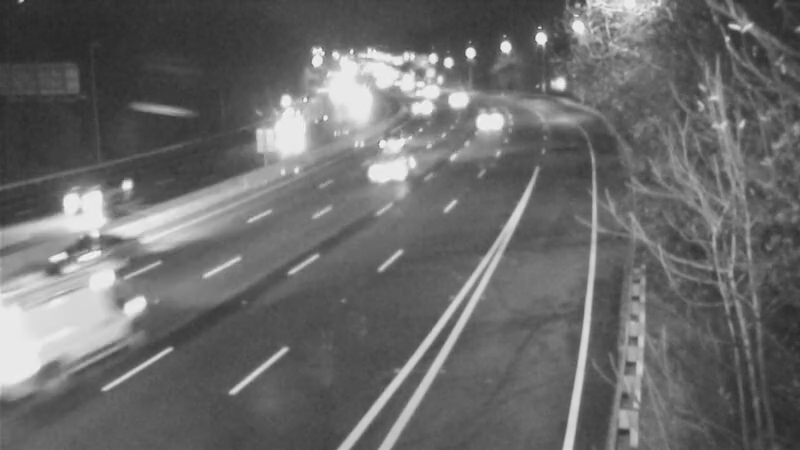vehicle: (1, 285, 104, 395), (360, 131, 440, 211), (39, 212, 119, 292), (47, 160, 127, 240), (408, 64, 458, 114), (395, 70, 445, 120), (427, 72, 477, 122), (387, 84, 437, 134), (458, 98, 508, 148), (367, 120, 417, 170), (264, 109, 314, 159)
